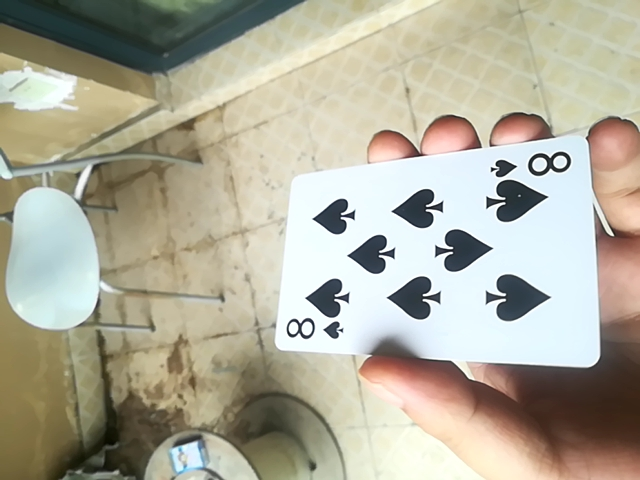ht 8: (271, 127, 613, 369)
